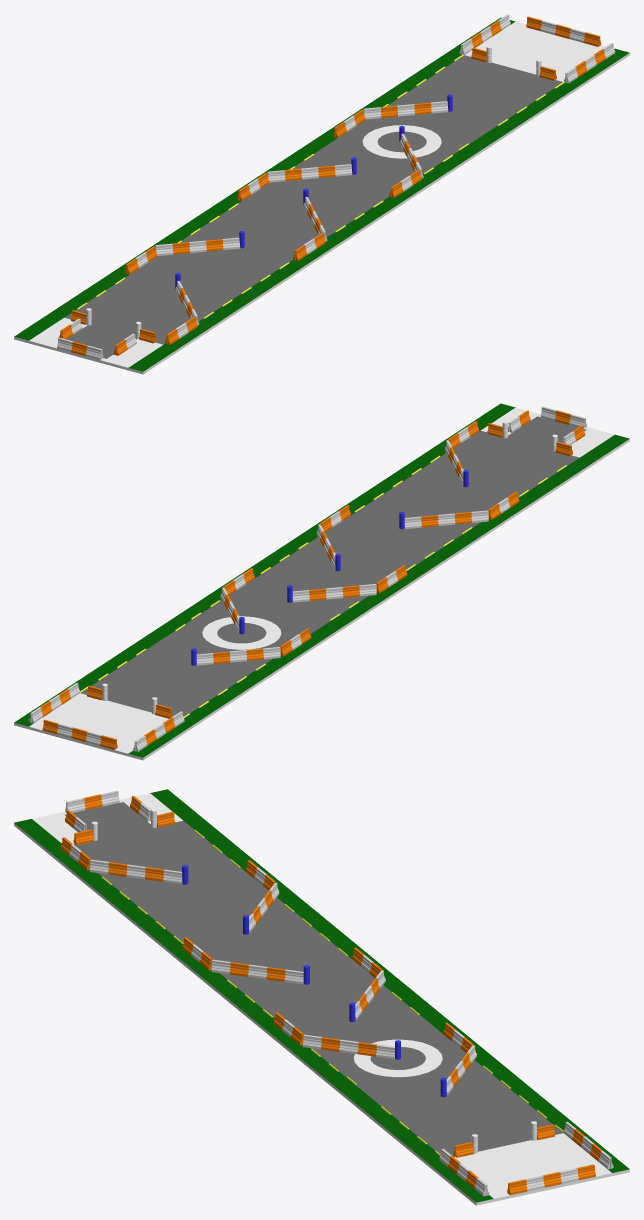
File: roadcourse.dae
The picture shows the model from 3 angles, top to bottom: view 1: azimuth 30°, elevation 25°; view 2: azimuth 210°, elevation 25°; view 3: azimuth 270°, elevation 25°; orthographic projection. The views are drawn at different scales.
Visible parts, largest first — view 1: group_24 (×4), group_44; view 2: group_24 (×4), group_44; view 3: group_24 (×4), group_44.
Boxes of the visible parts, x1,y1,x2,y2 form: group_24 (×4): [14, 17, 629, 374]; group_44: [362, 125, 441, 158]; group_24 (×4): [14, 403, 629, 760]; group_44: [202, 616, 281, 649]; group_24 (×4): [14, 789, 629, 1205]; group_44: [353, 1039, 442, 1077].
Bounding box in the file's own units: 3530 × 2222 × 80.03.
